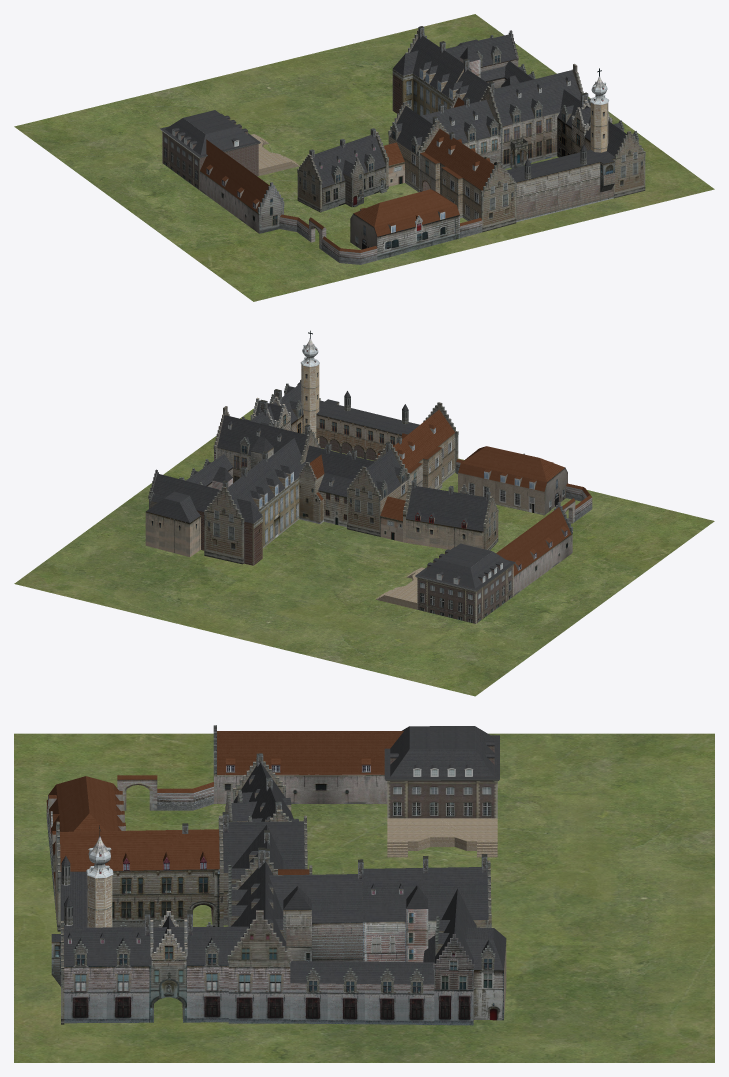
The model's file is barrio.obj.
3 renders of one model, top to bottom at view 1: azimuth 30°, elevation 25°; view 2: azimuth 150°, elevation 25°; view 3: azimuth 270°, elevation 25°, orthographic. The views are drawn at different scales.
Parts seen in each view (by area): view 1: Terreno_Barrio_Mesh, Material2_Mesh, Material2.001_Mesh; view 2: Terreno_Barrio_Mesh, Material2_Mesh, Material2.001_Mesh; view 3: Terreno_Barrio_Mesh, Material2_Mesh, Material2.001_Mesh, Material2.012_Mesh.
Boxes of the visible parts, box(x1,y1,x2,y2) form: Terreno_Barrio_Mesh: box(14, 14, 714, 301); Material2_Mesh: box(160, 26, 645, 264); Material2.001_Mesh: box(297, 128, 388, 212); Terreno_Barrio_Mesh: box(14, 408, 714, 696); Material2_Mesh: box(145, 364, 592, 623); Material2.001_Mesh: box(403, 480, 498, 550); Terreno_Barrio_Mesh: box(14, 733, 714, 1062); Material2_Mesh: box(46, 725, 506, 1025); Material2.001_Mesh: box(225, 753, 298, 822); Material2.012_Mesh: box(86, 825, 113, 878).
Bounding box in the file's own units: 101 × 25.57 × 91.3.
6 materials, 5 textured.
